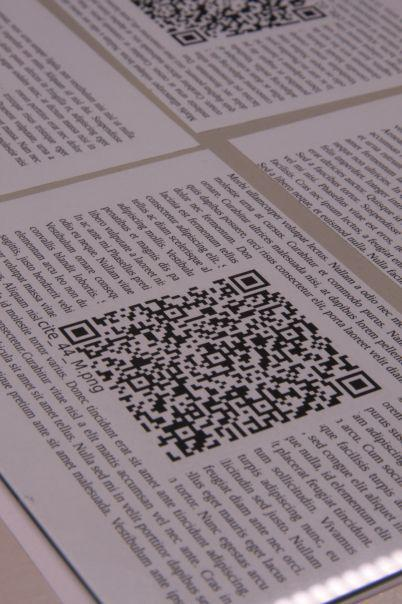Finder pattern: (337, 366, 383, 401), (59, 315, 103, 348), (229, 267, 271, 293)
